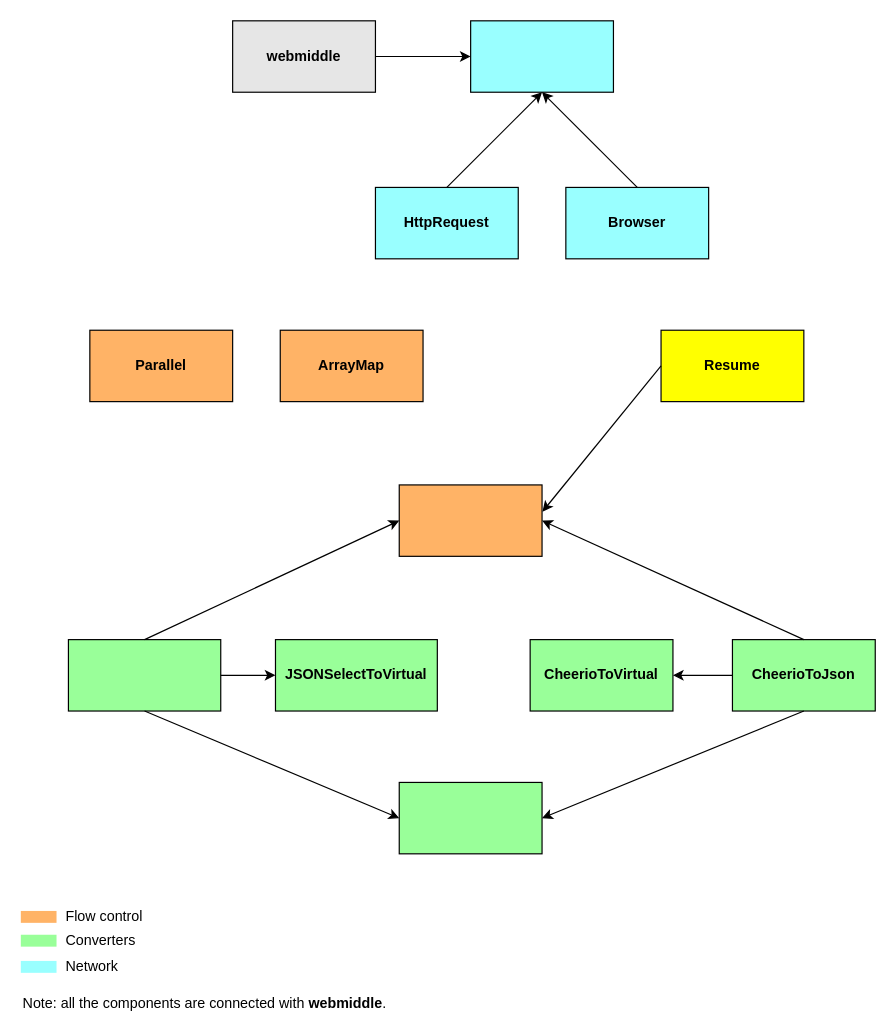
Image size: 896x1036. Some labels were removed from this diagram. The centre of each missing label's shape, as x and y in pixels:
CookieManager: [541,56]
JSONSelectToJson: [144,674]
Pipe: [470,520]
VirtualToJson: [470,817]
